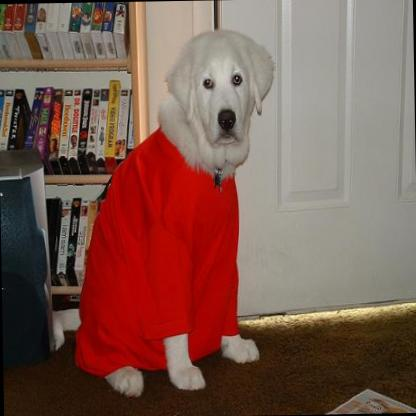Great_Pyrenees: (66, 23, 283, 398)
